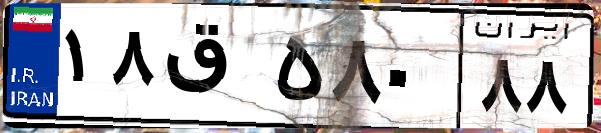0: (385, 28, 445, 110)
1: (57, 26, 110, 100)
5: (270, 28, 330, 110)
8: (330, 28, 385, 110), (475, 38, 525, 113), (525, 38, 570, 115), (110, 28, 158, 98)
ق: (158, 20, 270, 120)
